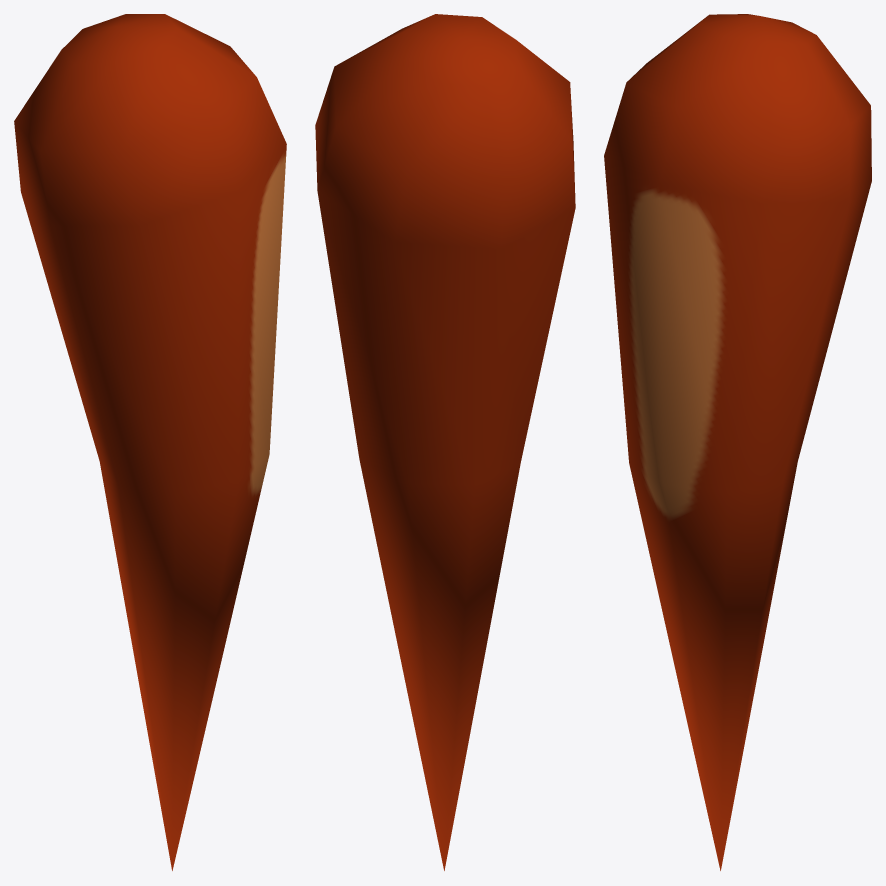
Rendered from Spider_002_Foot_002_L.fbx.
3 renders of one model, left to right at view 1: azimuth 30°, elevation 25°; view 2: azimuth 150°, elevation 25°; view 3: azimuth 270°, elevation 25°, orthographic. The views are drawn at different scales.
Parts seen in each view (by area): view 1: Foot_002_L; view 2: Foot_002_L; view 3: Foot_002_L.
Part boxes in pixels (bbox=[...]): Foot_002_L: bbox=[14, 14, 286, 870]; Foot_002_L: bbox=[315, 14, 575, 870]; Foot_002_L: bbox=[604, 14, 871, 870].
Size of the model in its own units: 5.11 by 17.51 by 5.07.
